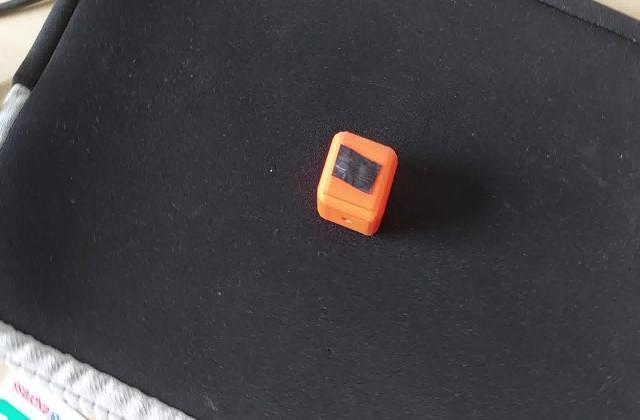black: (328, 148, 388, 196)
sticker: (313, 128, 399, 240)
